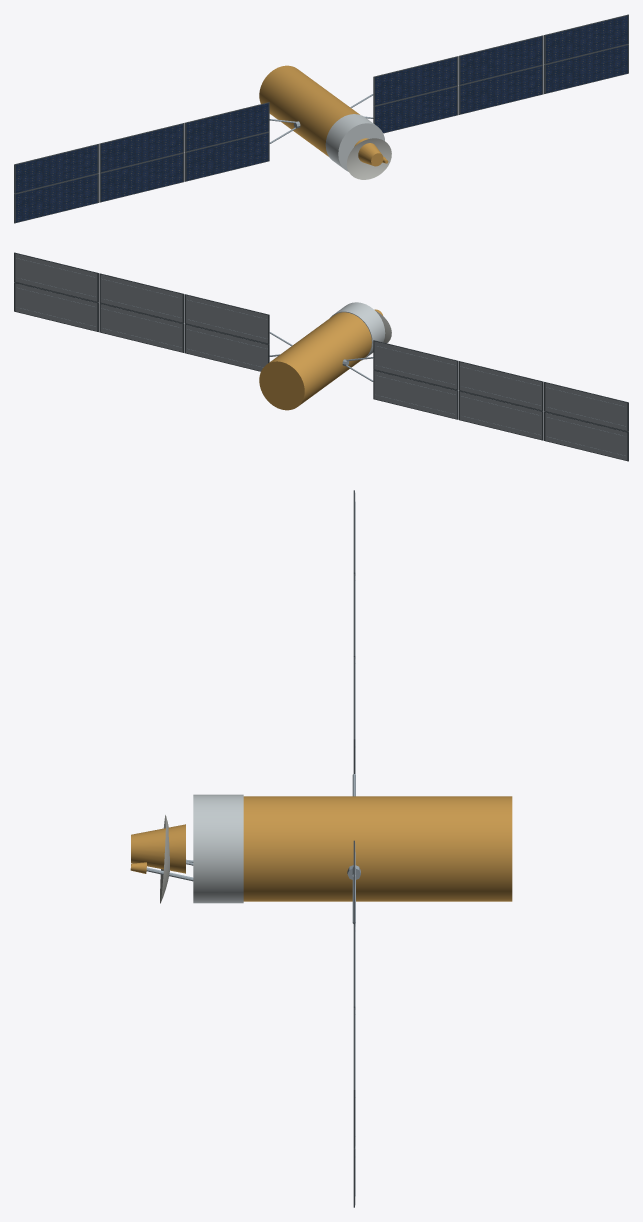
Rendered from ref-ekspress-2000-32478.glb.
3 views of the same model, one above another, from view 1: azimuth 30°, elevation 25°; view 2: azimuth 150°, elevation 25°; view 3: azimuth 270°, elevation 25° (orthographic). The views are drawn at different scales.
Visible parts, largest first — view 1: Solar cell panel (×12), Service barrel, Solar panel frame (×12), Equipment flange, Deck-mounted reflector, Axial antenna horn; view 2: Rear array substrate (×12), Service barrel, Solar panel frame (×12), Equipment flange; view 3: Service barrel, Equipment flange, Axial antenna horn.
Boxes of the visible parts, x1,y1,x2,y2 form: Solar cell panel (×12): (15, 15, 627, 222); Service barrel: (259, 65, 359, 156); Solar panel frame (×12): (14, 14, 628, 223); Equipment flange: (325, 114, 384, 171); Deck-mounted reflector: (346, 138, 391, 179); Axial antenna horn: (354, 138, 383, 166); Rear array substrate (×12): (15, 253, 627, 460); Service barrel: (259, 312, 371, 410); Solar panel frame (×12): (14, 252, 628, 461); Equipment flange: (330, 302, 385, 360); Service barrel: (243, 796, 512, 901); Equipment flange: (193, 794, 243, 903); Axial antenna horn: (131, 824, 185, 873).
Size of the model in its own units: 26.96 by 2.47 by 7.25.
7 materials, 1 textured.
